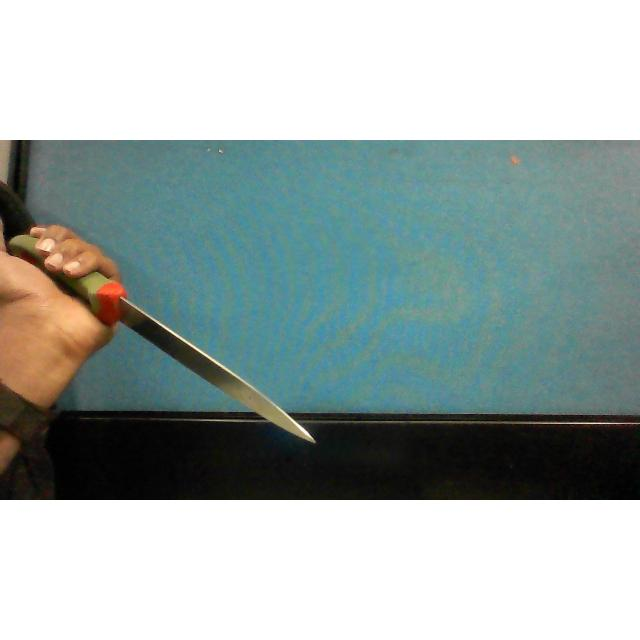Knife: (8, 235, 314, 442)
